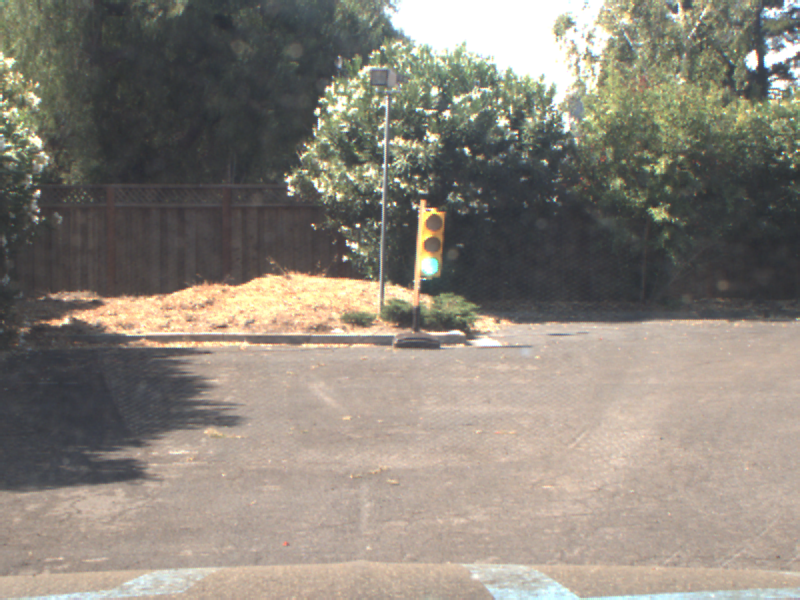green: (415, 203, 444, 278)
